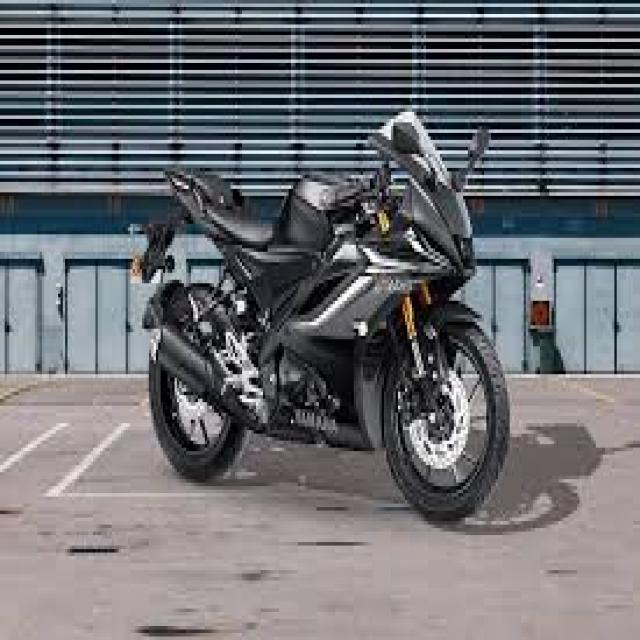MOTORCYCLE: (147, 116, 514, 517)
